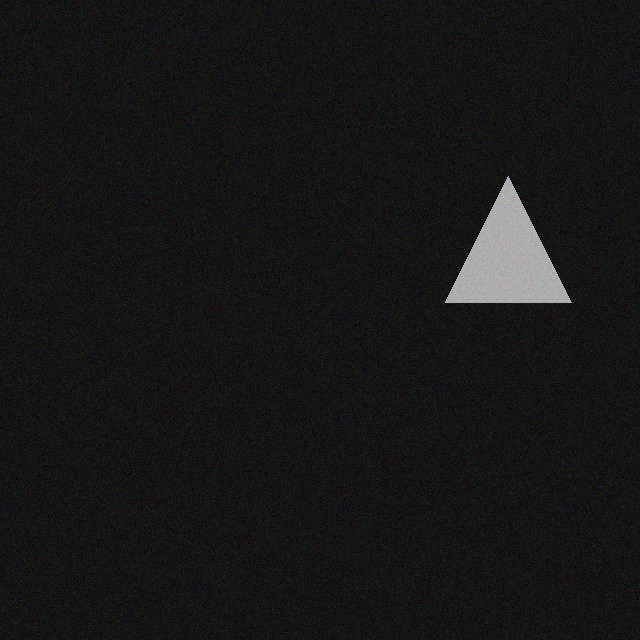triangle: (449, 162, 575, 288)
